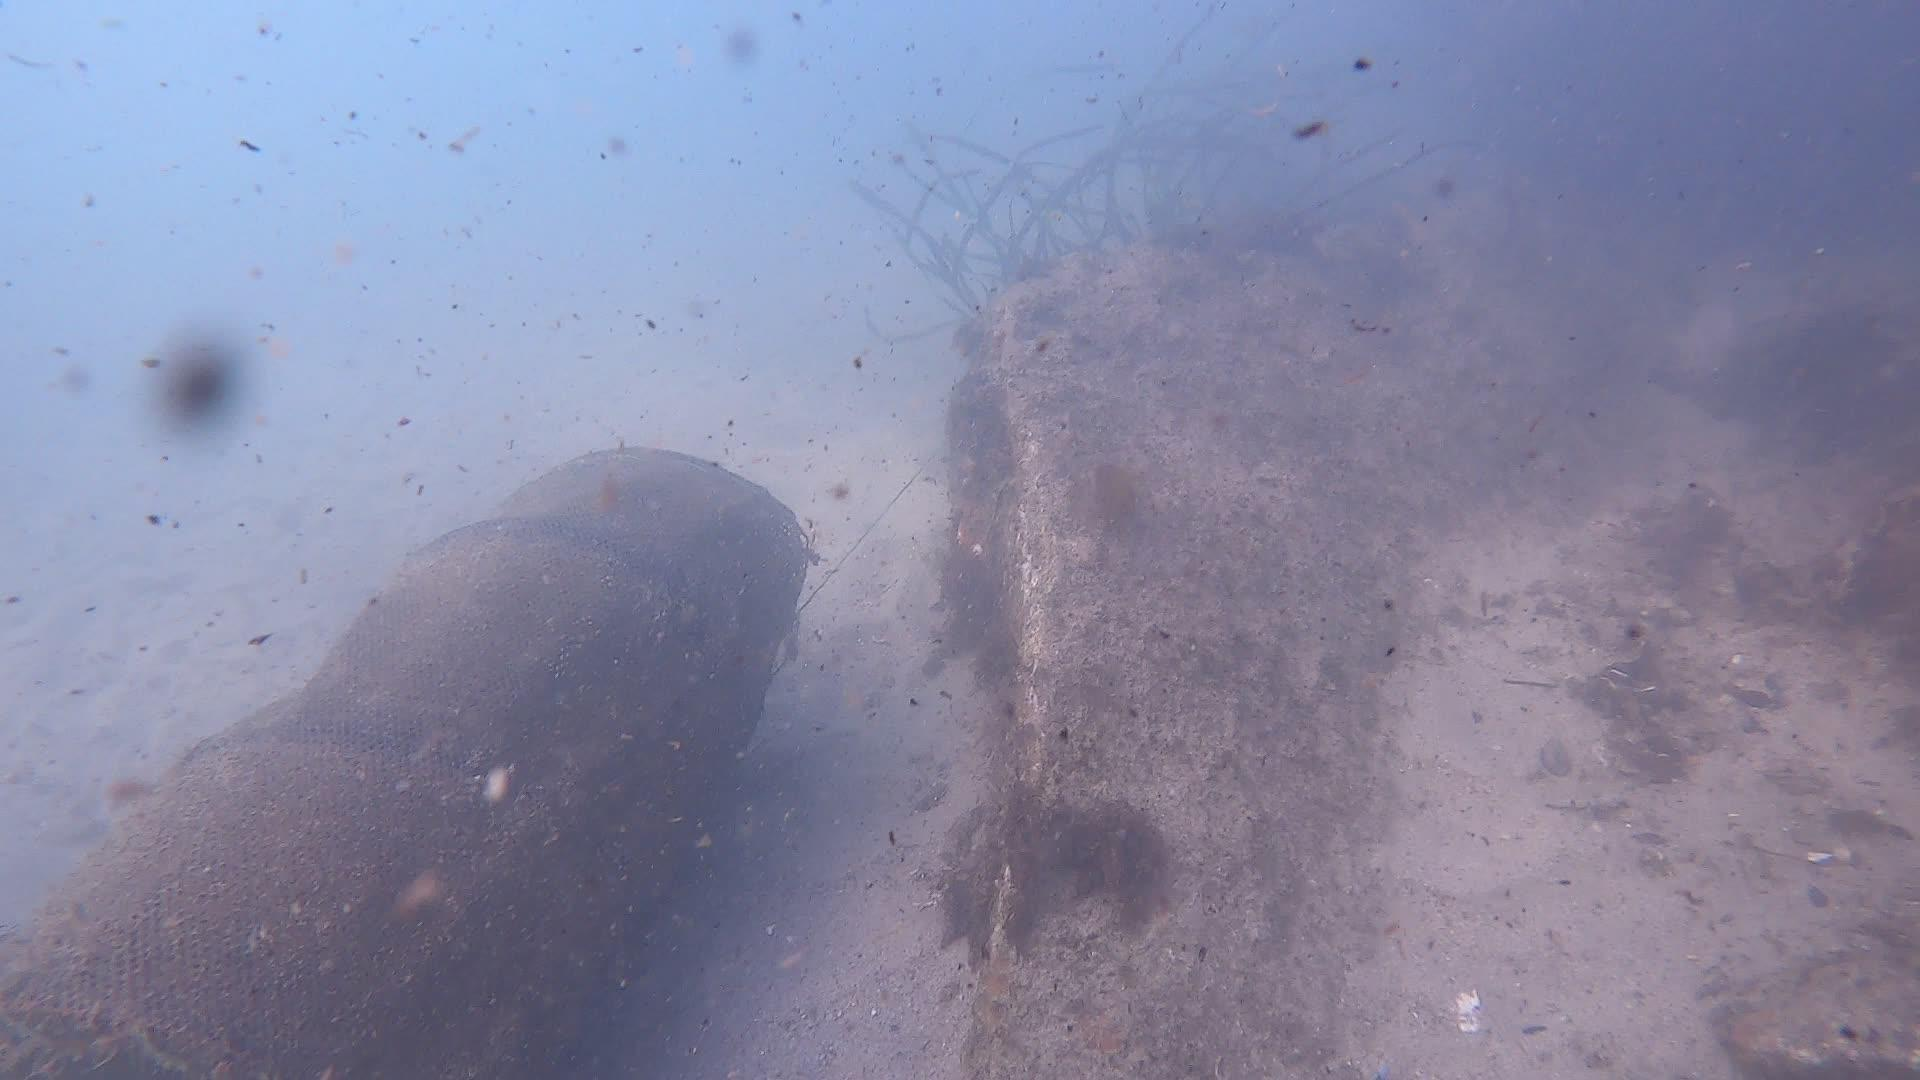spring fish trap: (0, 444, 808, 1080)
